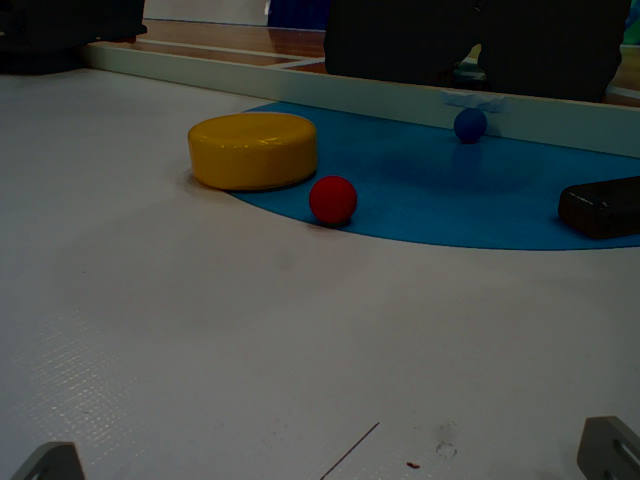black: (186, 111, 317, 190), (557, 167, 640, 238)
blue: (456, 110, 486, 140)
red: (306, 177, 359, 226)
